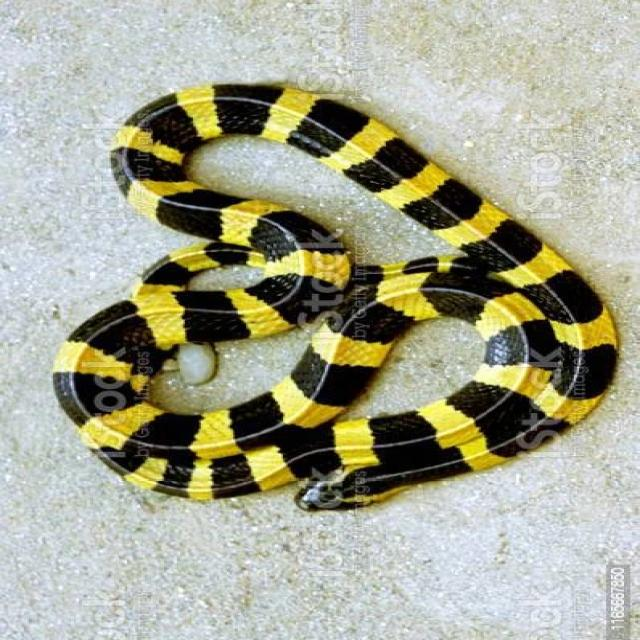Venomous: (120, 124, 392, 344)
